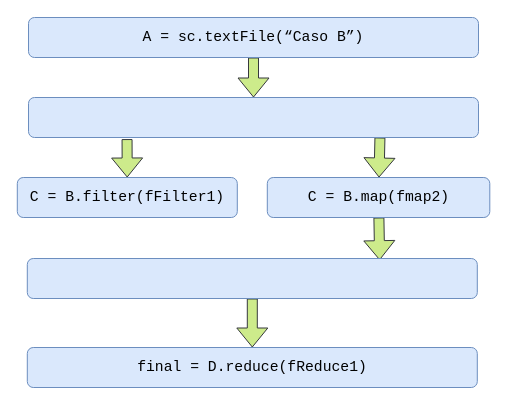
Some shapes in this 508 by 405 pixel diagram are drawn without their labels. Each missing label, with the centre of its shape:
"B = A.map(fMap1)" goes at point 253,117.
"D = C.filter(fFilter2)" goes at point 251,278.
